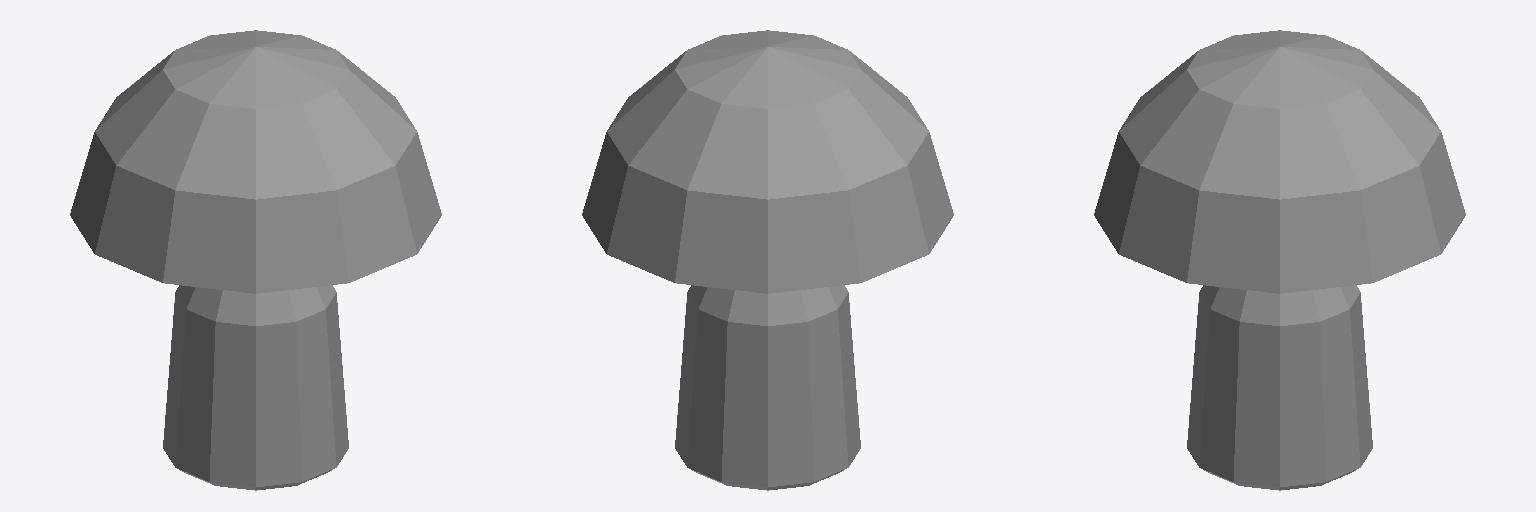
Rendered from mushroomg8.obj.
The picture shows the model from 3 angles: view 1: azimuth 30°, elevation 25°; view 2: azimuth 150°, elevation 25°; view 3: azimuth 270°, elevation 25°; orthographic projection.
Visible parts, largest first — view 1: Sphere.006; view 2: Sphere.006; view 3: Sphere.006.
Boxes of the visible parts, x1,y1,x2,y2 form: Sphere.006: [70, 30, 441, 490]; Sphere.006: [582, 30, 953, 490]; Sphere.006: [1094, 30, 1465, 490].
Size of the model in its own units: 0.8 by 0.9904 by 0.8.